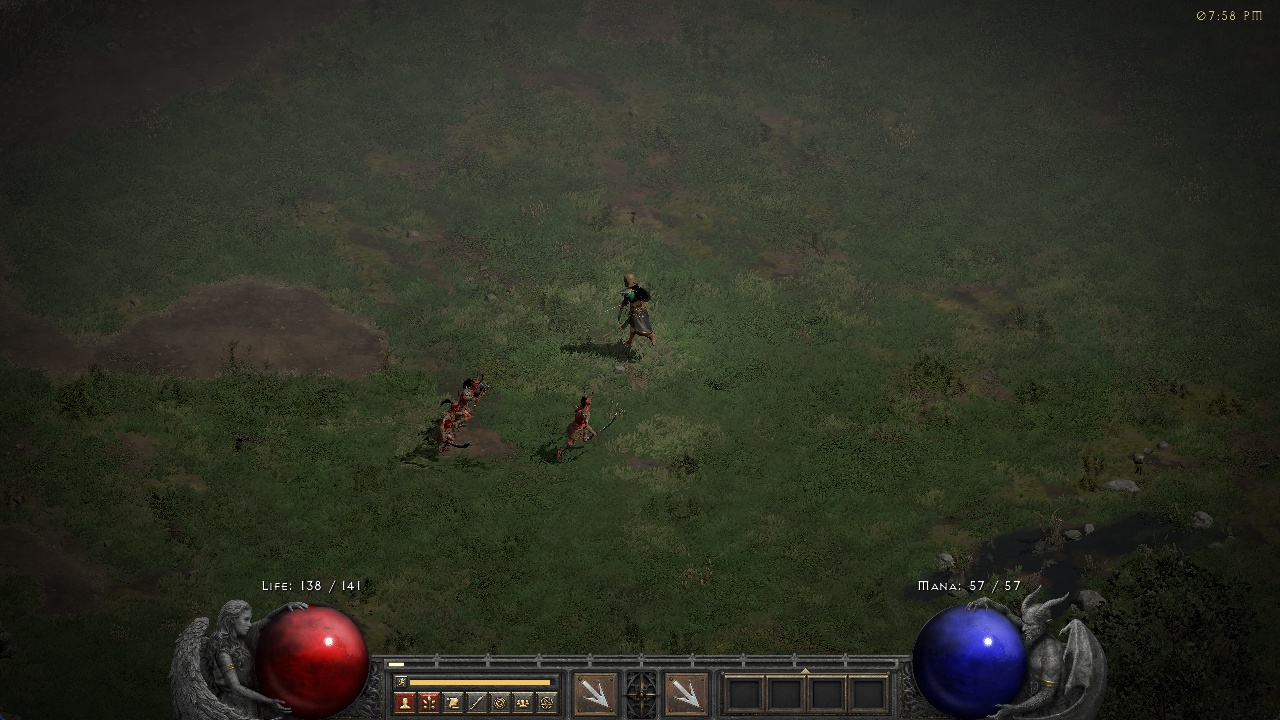fallen: (560, 389, 617, 466), (434, 402, 471, 460), (453, 375, 493, 403)
